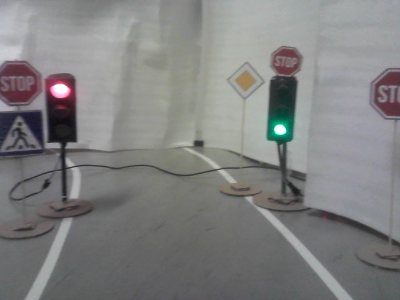crosswalk: (1, 110, 43, 152)
priority_road: (227, 62, 263, 97)
stop: (1, 63, 40, 104), (272, 47, 299, 75)
trafficlight_green: (267, 75, 293, 139)
trafficlight_red: (47, 76, 74, 143)
